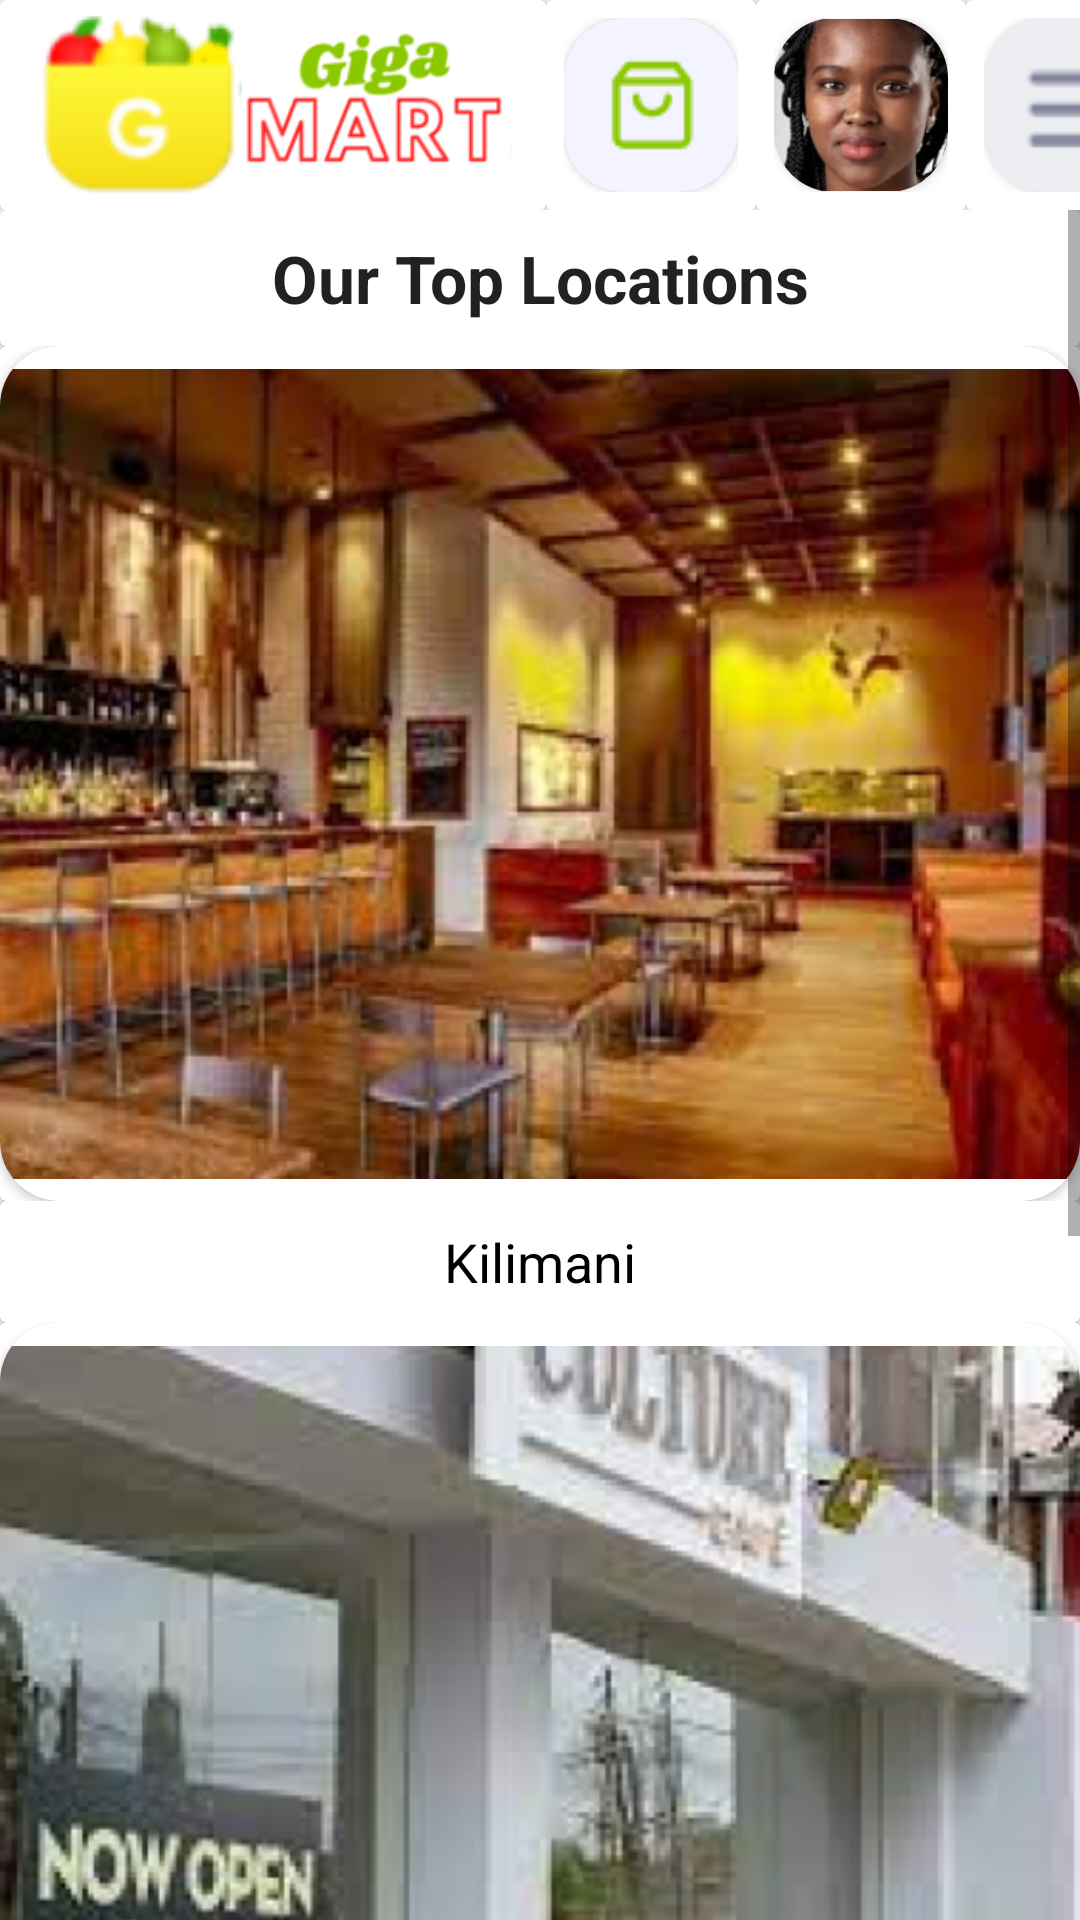

Screen size 1080 × 1920. Icon name, then its box in pixels as [x1, y1, x2, y2]:
cart: [564, 18, 738, 192]
user: [774, 19, 948, 192]
